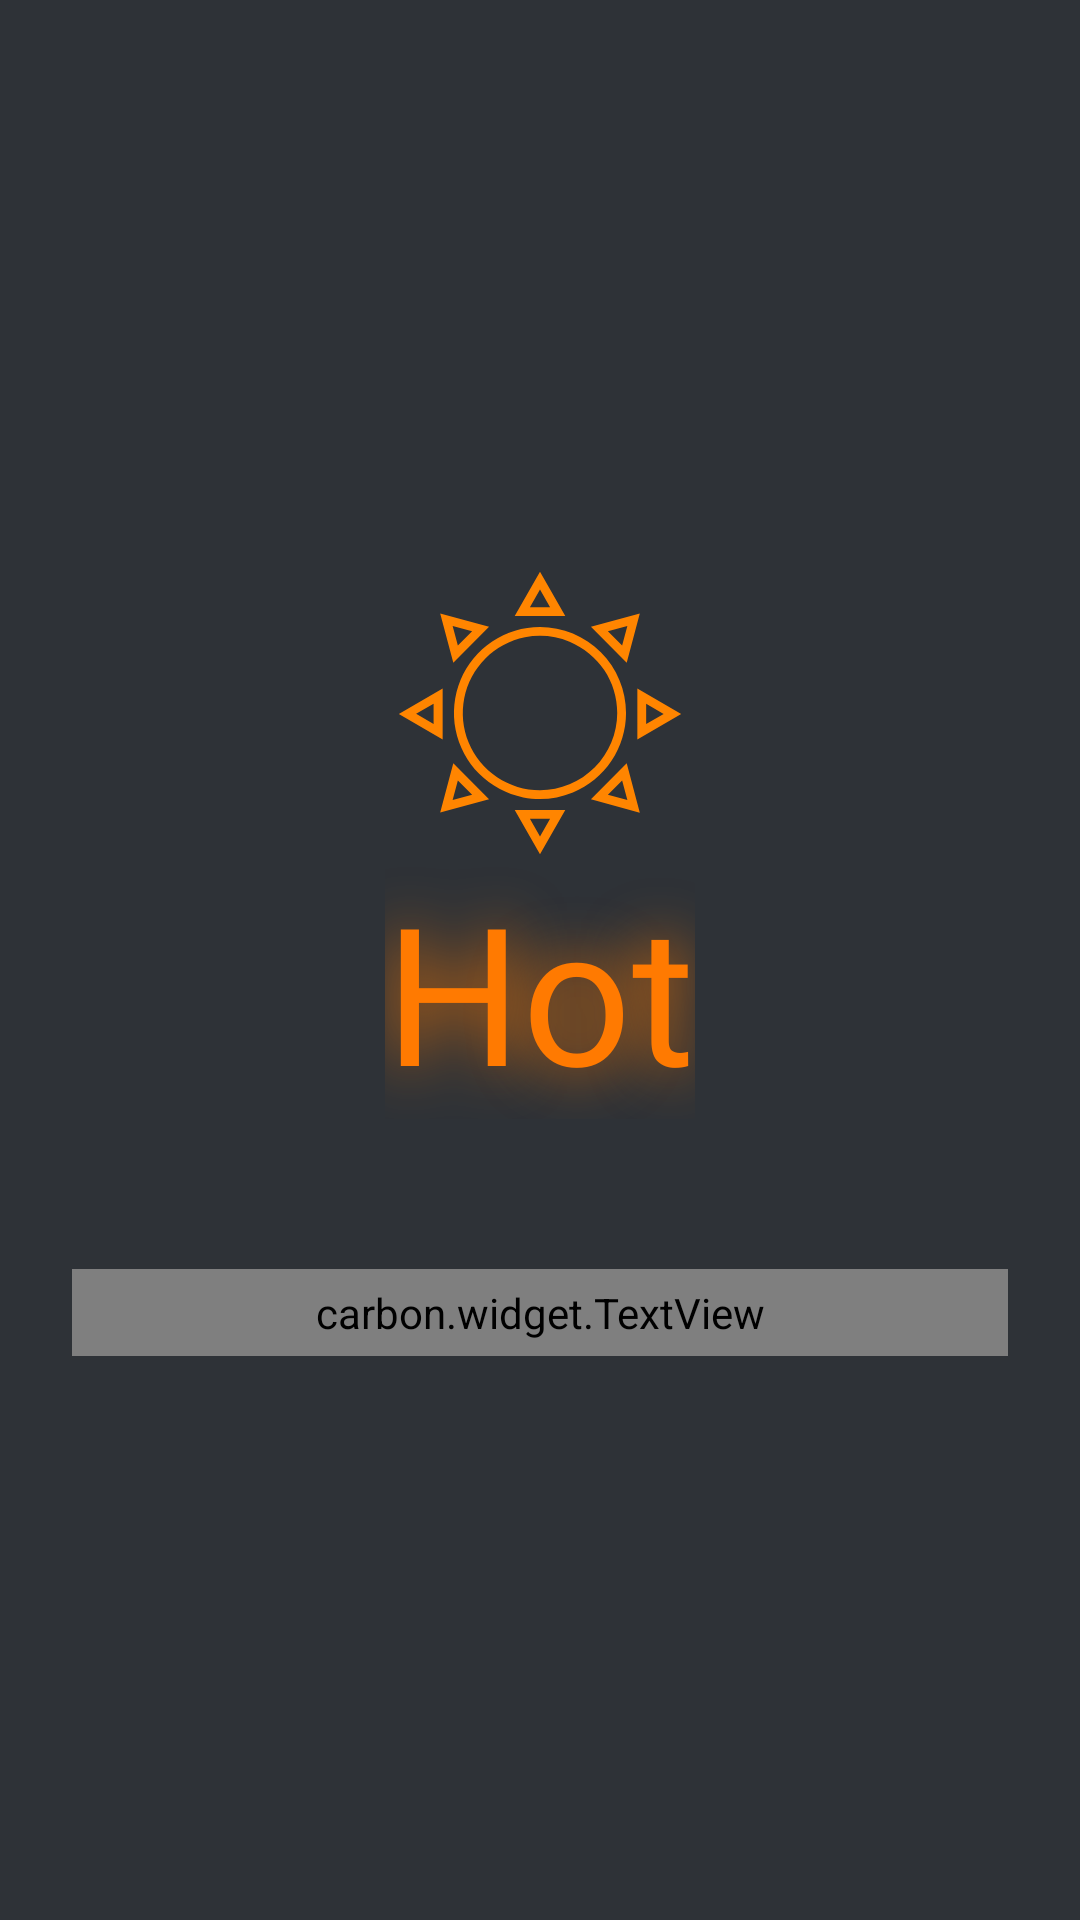

Screen size 1080*1920. Icon name, then its box in pixels as (x1, y1, x2, y2):
hot mode: (399, 572, 681, 854)
